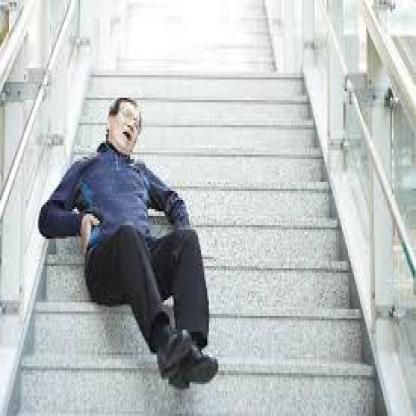Fall_Down: (37, 97, 219, 392)
